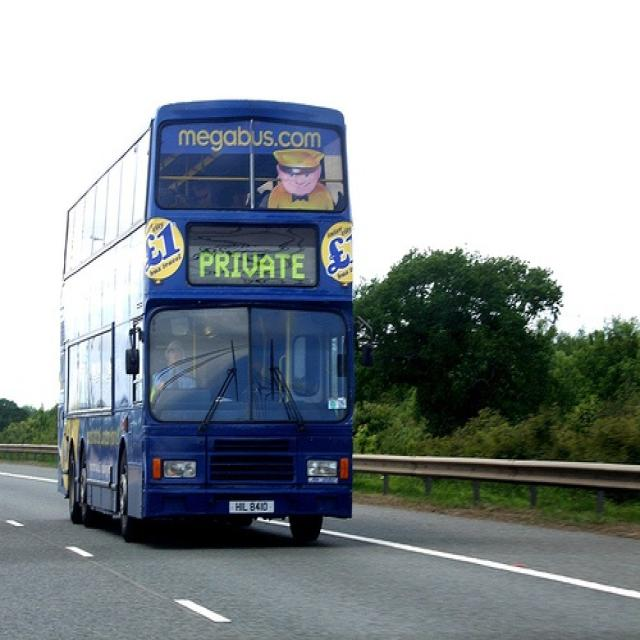bus: (54, 99, 356, 550)
